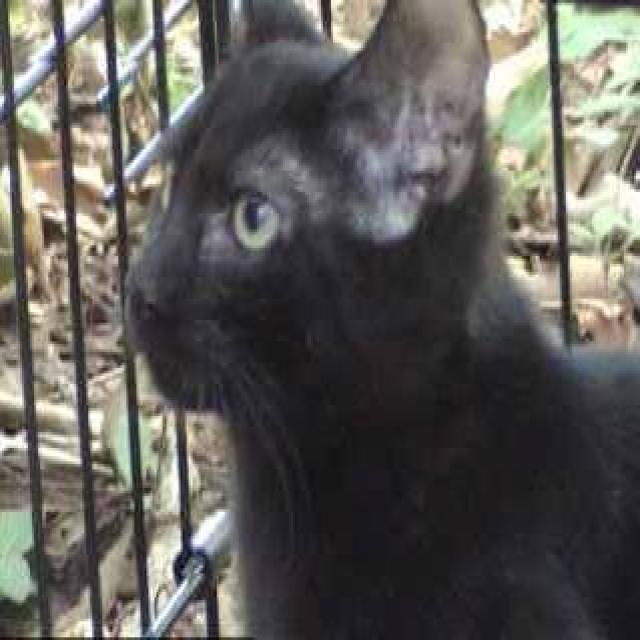cat: (122, 0, 637, 637)
